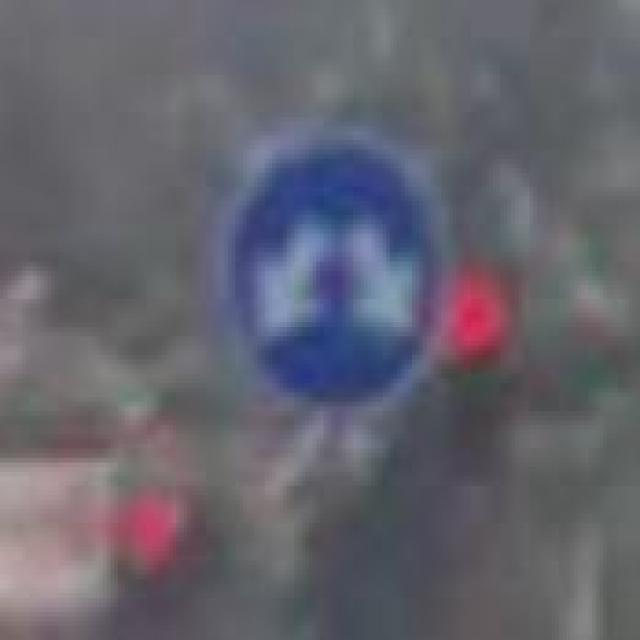traffic sign: (221, 126, 446, 416)
